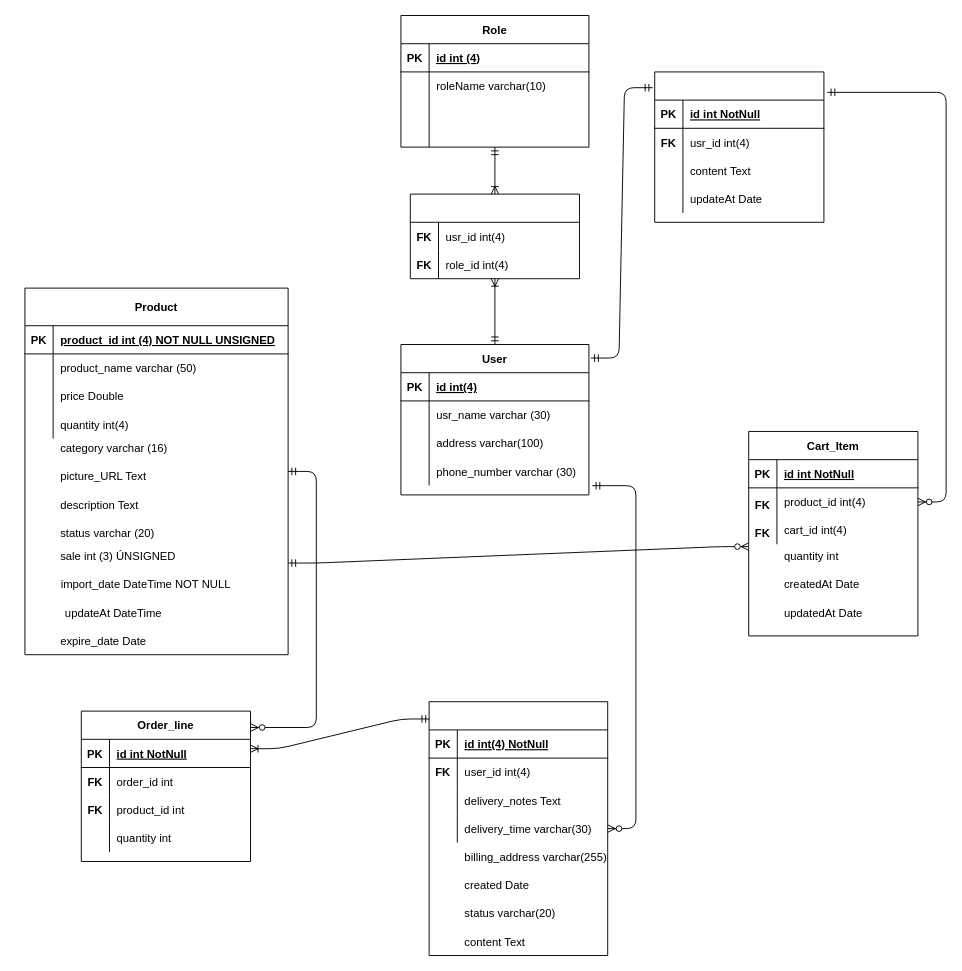
The diagram is 962 pixels wide and 971 high, and some of its shapes have lost their labels. The box of each missing label's shape, as (x1, y1, x2, y2) in pixels:
Cart: (654, 71, 824, 222)
Order: (428, 701, 608, 956)
UserRole: (409, 193, 580, 279)
